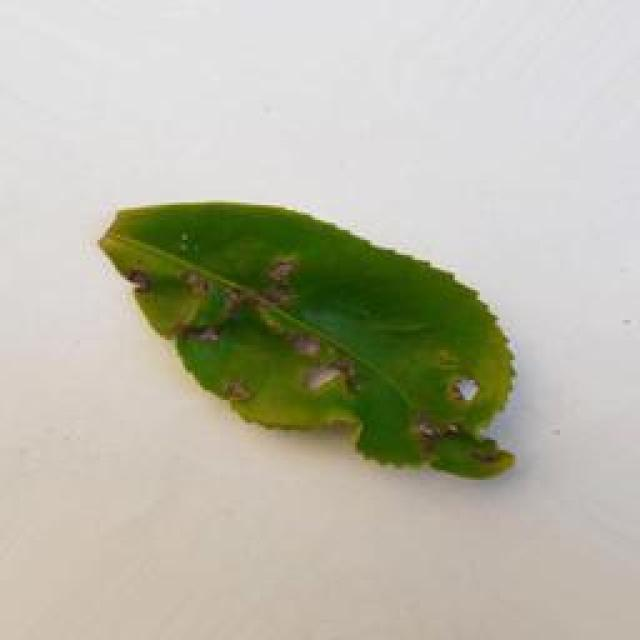Helopeltis: (99, 187, 525, 478)
